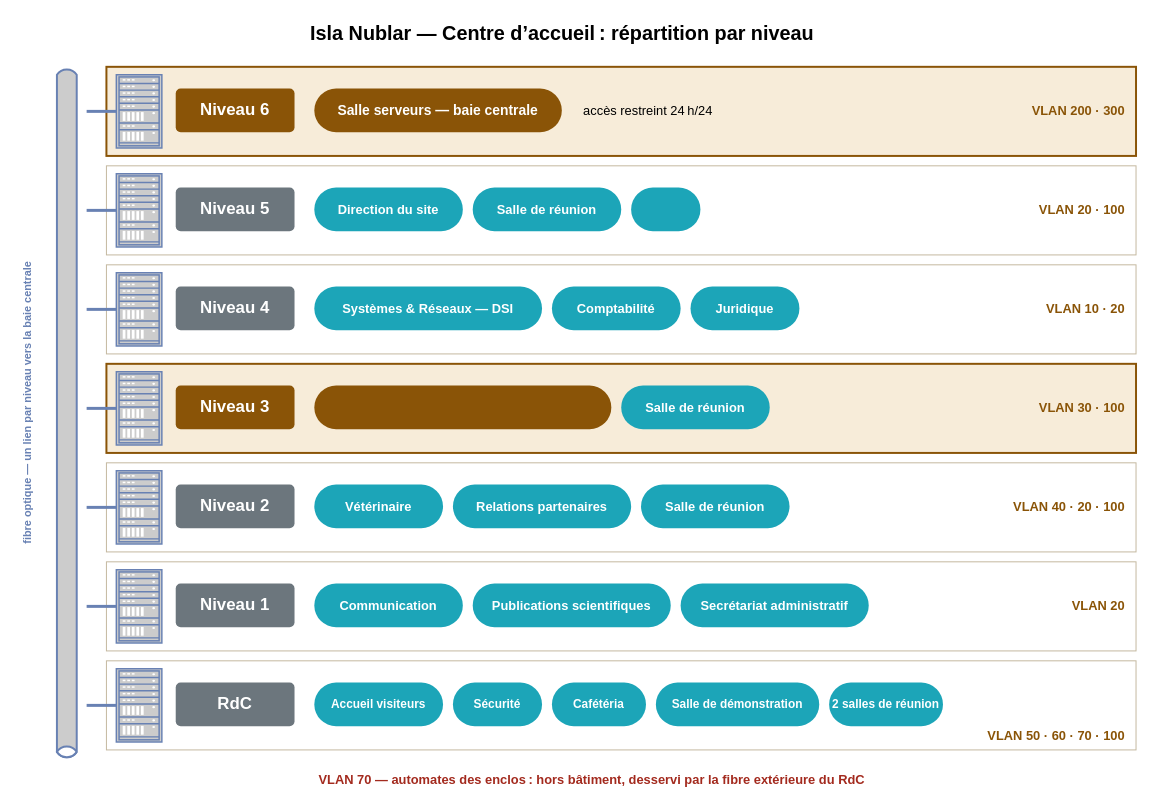
Image size: 1153x811. Some labels were removed from this diagram. Each missing label, with the centre of its shape:
Hammond Creation Lab — génétique: pixel 462 407
RH: pixel 665 209
